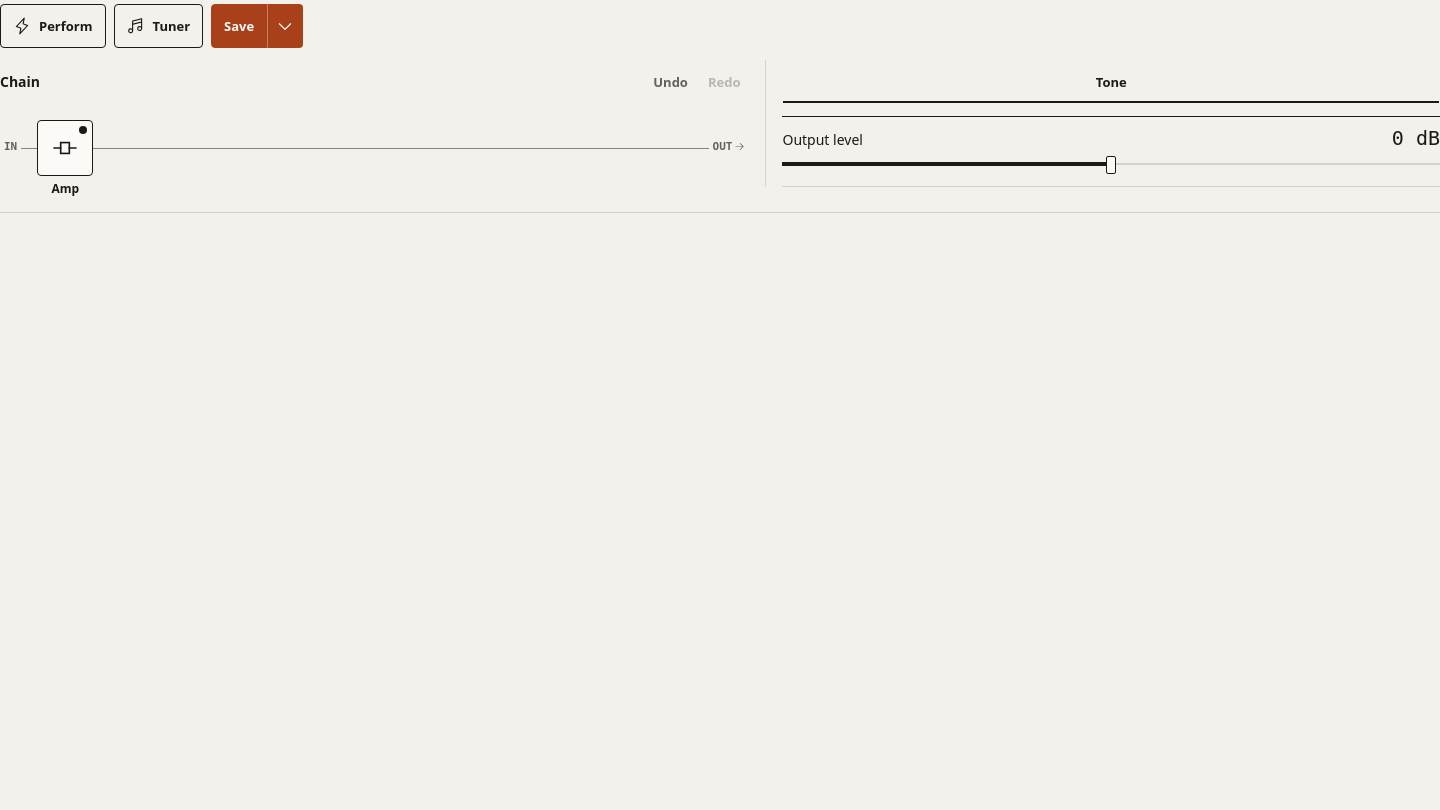
keeps an adjustment usable when beginning it advances the session revision
Click the button with aria-label "Adjust sounding Output level": (823, 140) [782,117,1439,187]
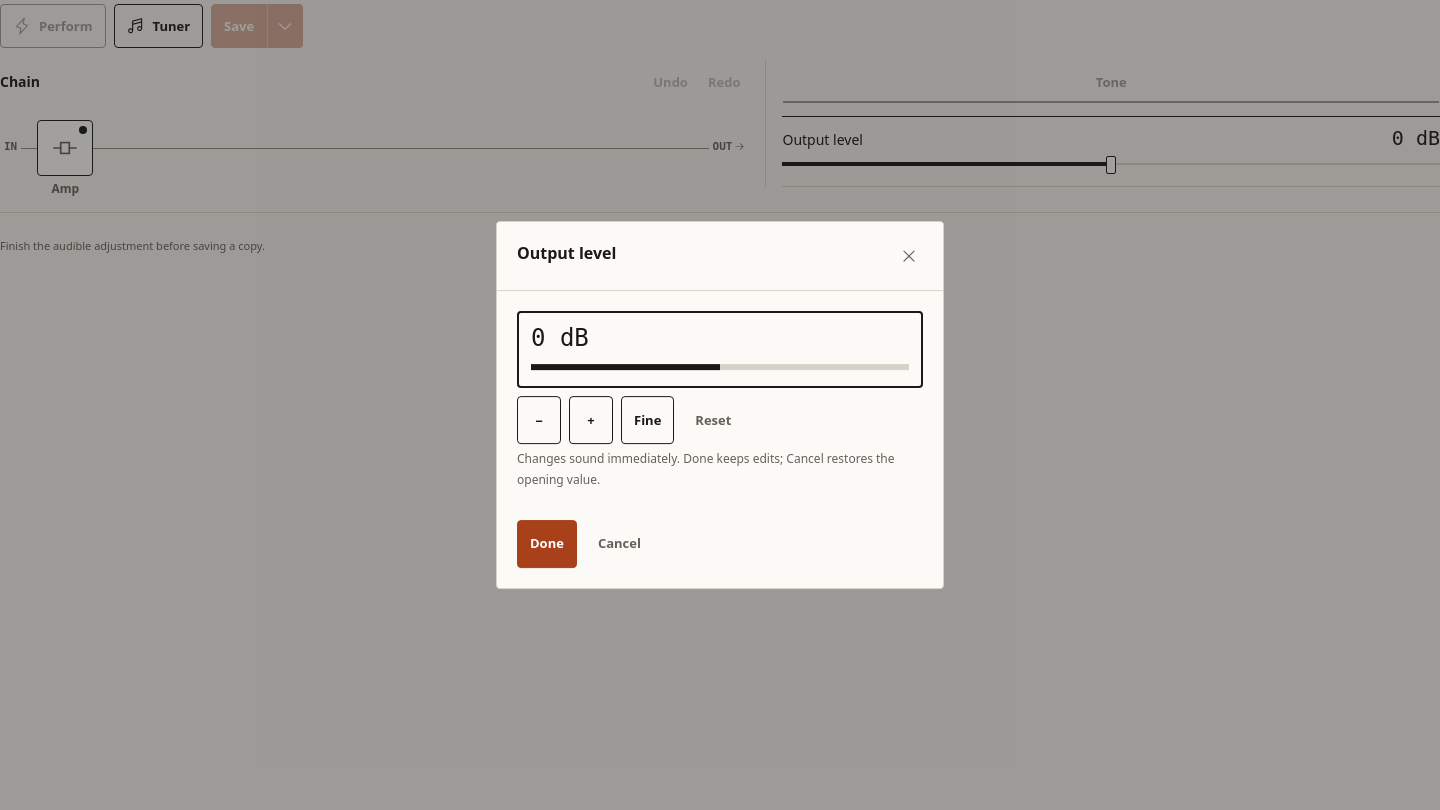
Expected: the dialog "Output level" does not show "Sounding session changed", [496,221,944,589]
Expected: the button "Done" is enabled, [517,520,577,568]
